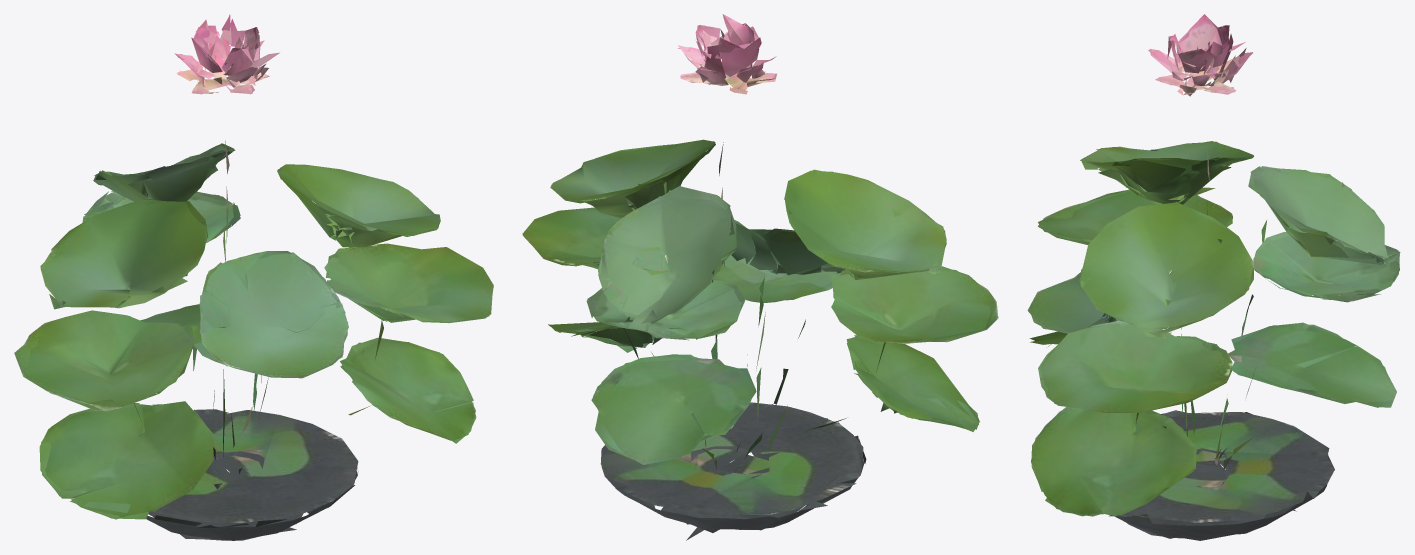
File: LotusPlant.glb
3 renders of one model, left to right at view 1: azimuth 30°, elevation 25°; view 2: azimuth 150°, elevation 25°; view 3: azimuth 270°, elevation 25°, orthographic.
Parts seen in each view (by area): view 1: LotusPlant; view 2: LotusPlant; view 3: LotusPlant.
Boxes of the visible parts, x1=… form: LotusPlant: x1=14, y1=14, x2=493, y2=540; LotusPlant: x1=522, y1=14, x2=998, y2=540; LotusPlant: x1=1027, y1=14, x2=1400, y2=540.
Size of the model in its own units: 1.9 by 1.92 by 1.34.
1 material, 1 textured.
